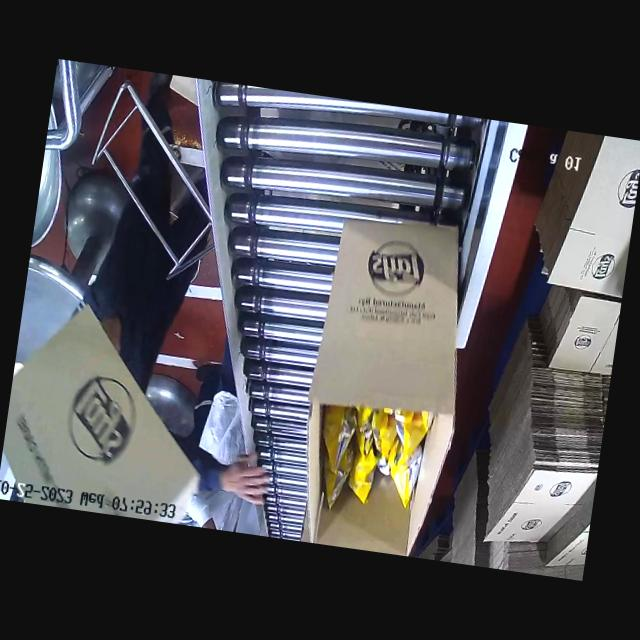salted: (328, 399, 438, 519)
